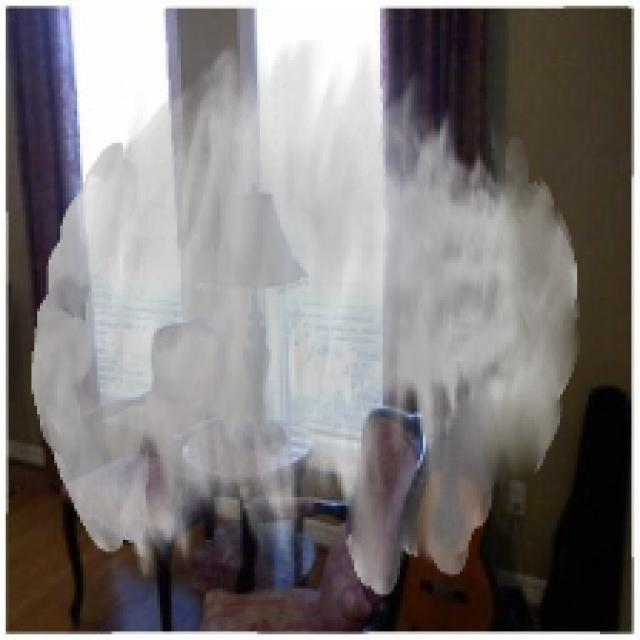Smoke: (31, 40, 580, 597)
